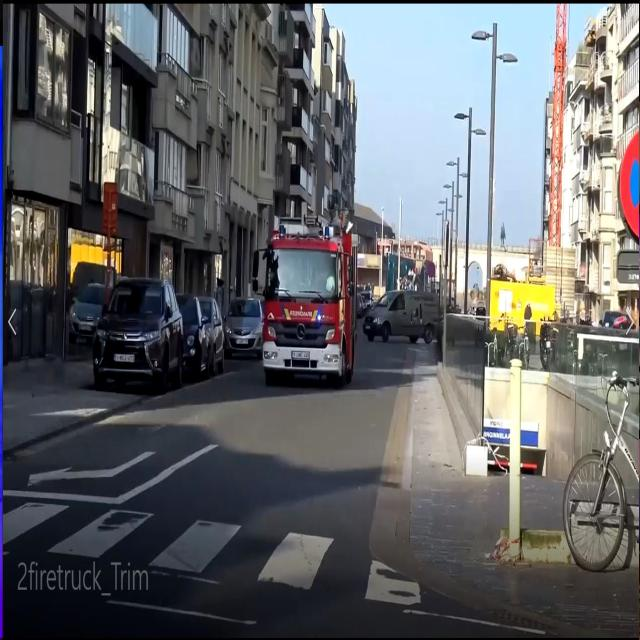emergency: (253, 219, 361, 400)
